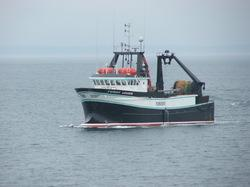otherboat: (74, 18, 220, 131)
